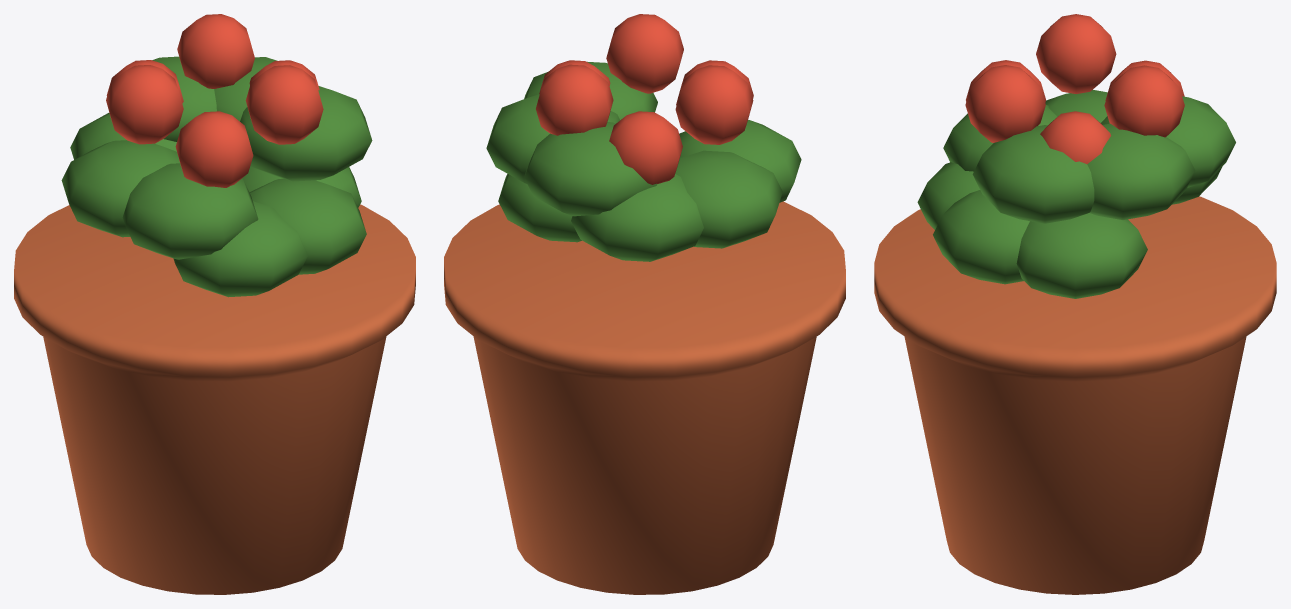
The model's file is saksi.glb.
3 renders of one model, left to right at view 1: azimuth 30°, elevation 25°; view 2: azimuth 150°, elevation 25°; view 3: azimuth 270°, elevation 25°, orthographic.
Visible parts, largest first — view 1: saksi; view 2: saksi; view 3: saksi.
Boxes of the visible parts, left/top/right/bottom form: saksi: left=14, top=14, right=415, bottom=594; saksi: left=444, top=14, right=845, bottom=594; saksi: left=874, top=14, right=1276, bottom=594.
Size of the model in its own units: 0.5 by 0.67 by 0.5.
